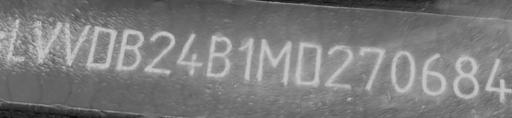letter: (252, 36, 296, 86), (141, 28, 181, 78), (112, 26, 150, 78), (350, 43, 390, 91), (172, 29, 208, 81), (322, 41, 356, 94), (418, 50, 454, 100), (58, 19, 94, 67), (292, 38, 328, 86), (80, 27, 118, 72), (30, 18, 64, 68), (204, 31, 238, 79), (385, 46, 419, 93), (450, 52, 484, 99), (2, 15, 32, 61), (483, 56, 511, 104), (234, 35, 260, 83)
